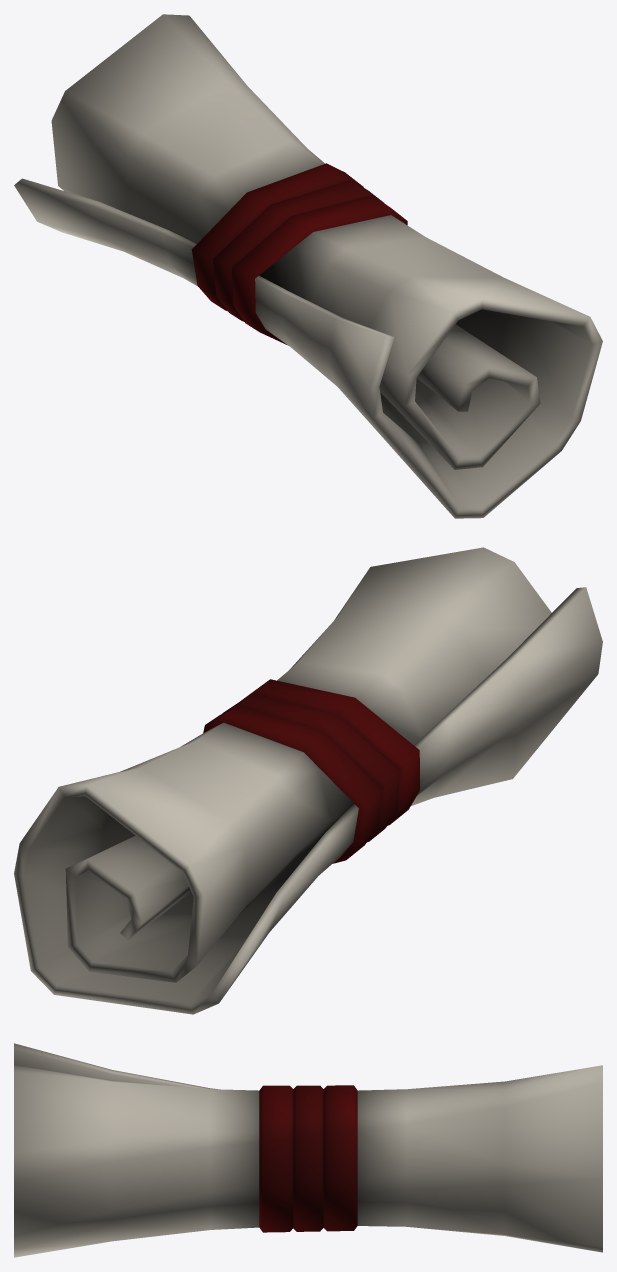
Rendered from obj_scroll.FBX.
3 views of the same model, one above another, from view 1: azimuth 30°, elevation 25°; view 2: azimuth 150°, elevation 25°; view 3: azimuth 270°, elevation 25° (orthographic). The views are drawn at different scales.
Visible parts, largest first — view 1: obj_scroll; view 2: obj_scroll; view 3: obj_scroll.
Boxes of the visible parts, x1=… form: obj_scroll: x1=14, y1=14, x2=602, y2=518; obj_scroll: x1=14, y1=547, x2=602, y2=1014; obj_scroll: x1=14, y1=1043, x2=602, y2=1257.
Bounding box in the file's own units: 0.2984 × 0.2868 × 0.75.
